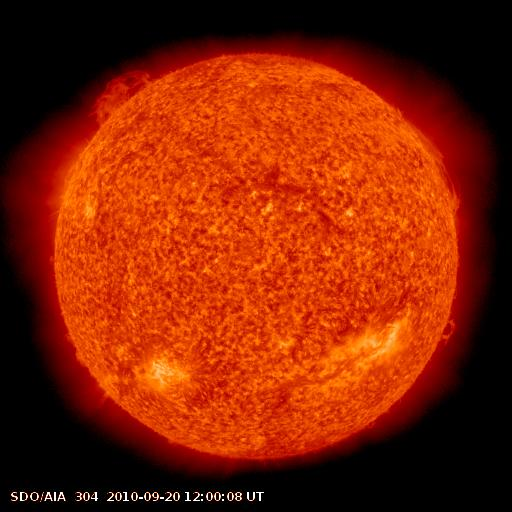prominence: (87, 61, 164, 132), (413, 123, 463, 211), (435, 313, 463, 349)
